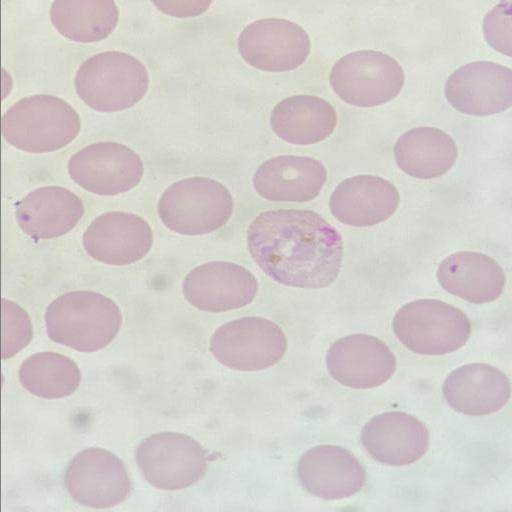Infected: (247, 209, 342, 288)
Uninfected: (45, 289, 120, 353), (2, 94, 80, 153), (75, 51, 149, 112), (136, 431, 210, 490), (157, 177, 233, 234), (68, 141, 144, 196), (393, 299, 467, 355), (330, 50, 404, 106), (211, 316, 284, 371), (325, 333, 395, 389), (82, 211, 153, 266), (13, 185, 84, 240), (64, 447, 129, 506), (238, 17, 309, 71), (444, 60, 512, 116), (182, 261, 255, 312), (361, 410, 428, 465), (297, 445, 364, 500), (436, 250, 503, 304), (442, 363, 508, 416), (269, 94, 336, 146), (329, 176, 400, 225), (253, 155, 325, 203), (393, 126, 457, 179), (18, 351, 80, 399)
